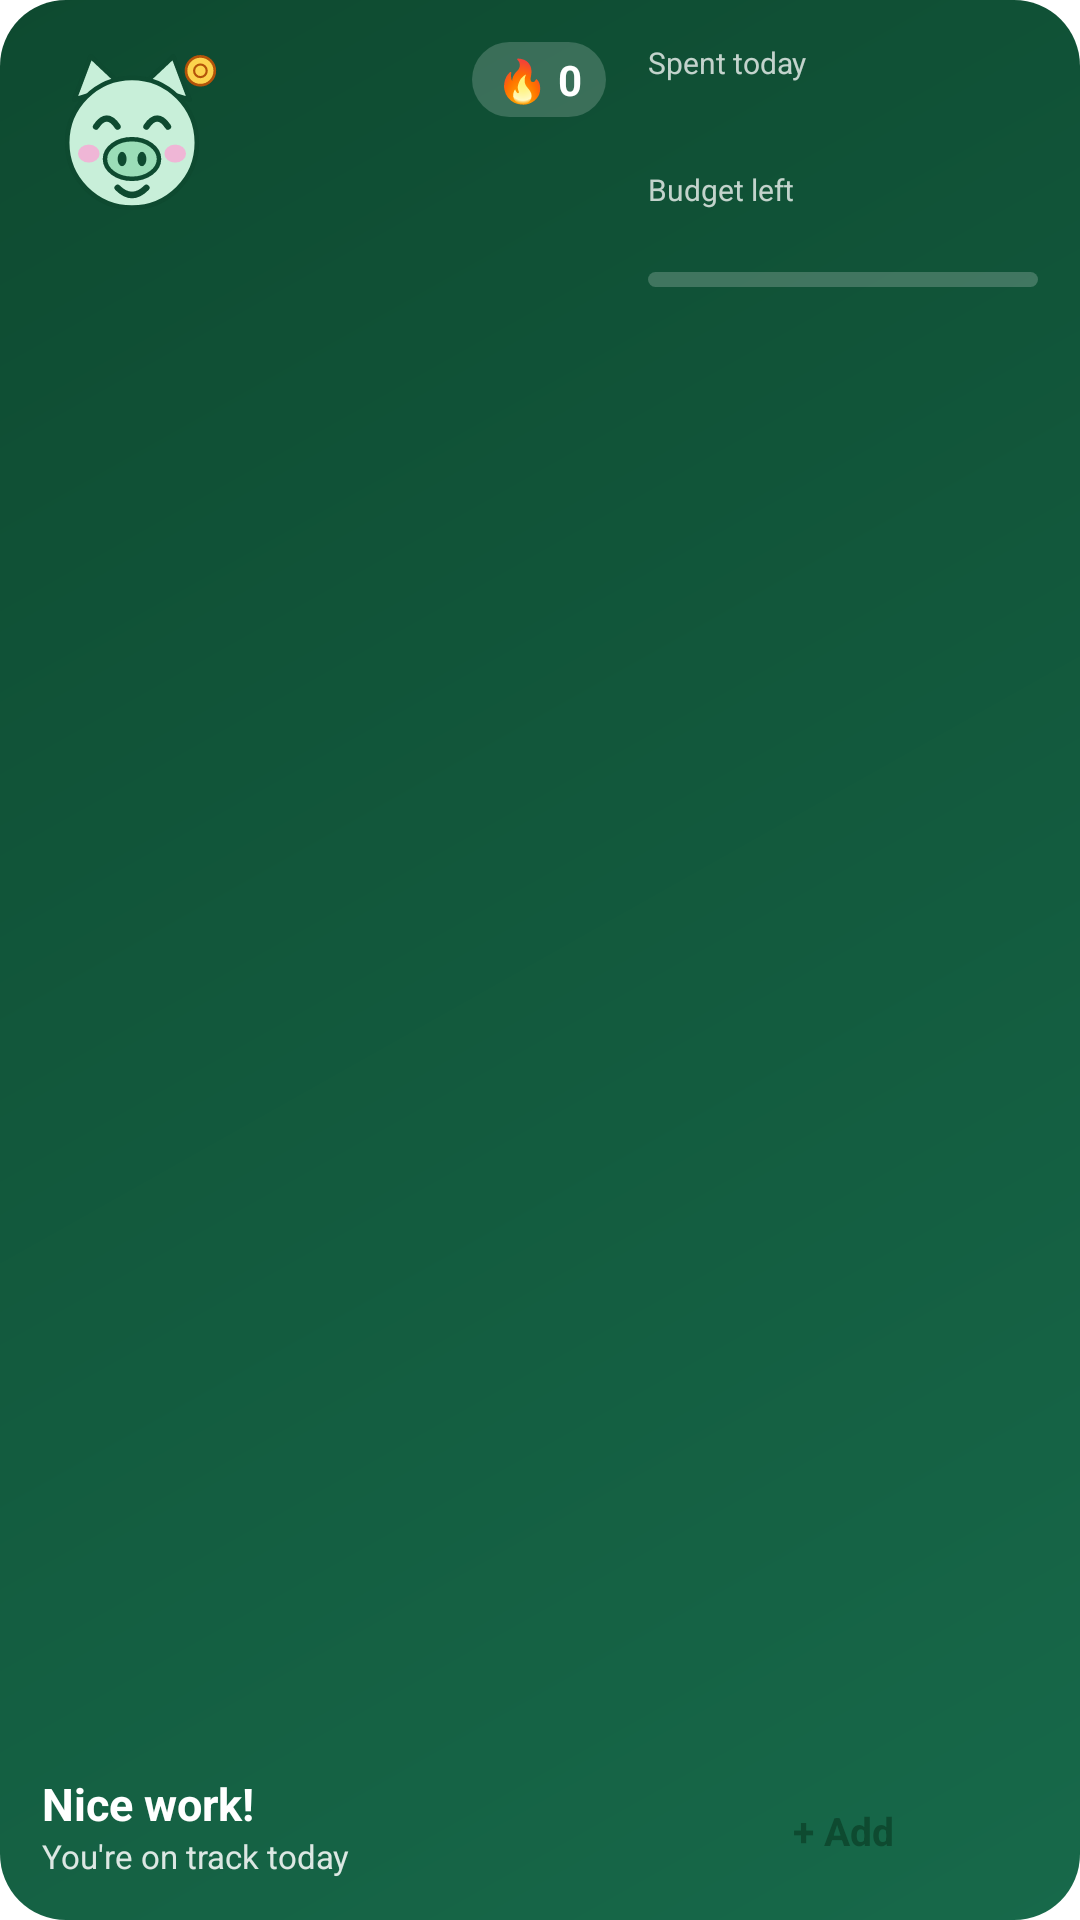

Where to tap for icons on this 1080px x 1920px app screen, as [x,y]:
piggy happy: [142,130]
